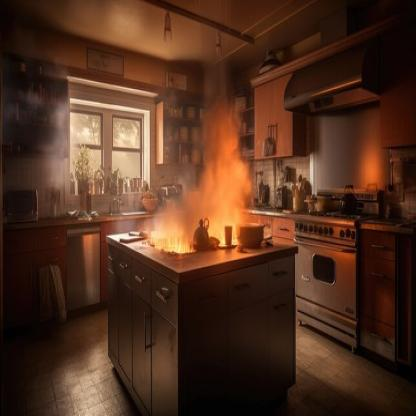smoke: (141, 59, 256, 237)
